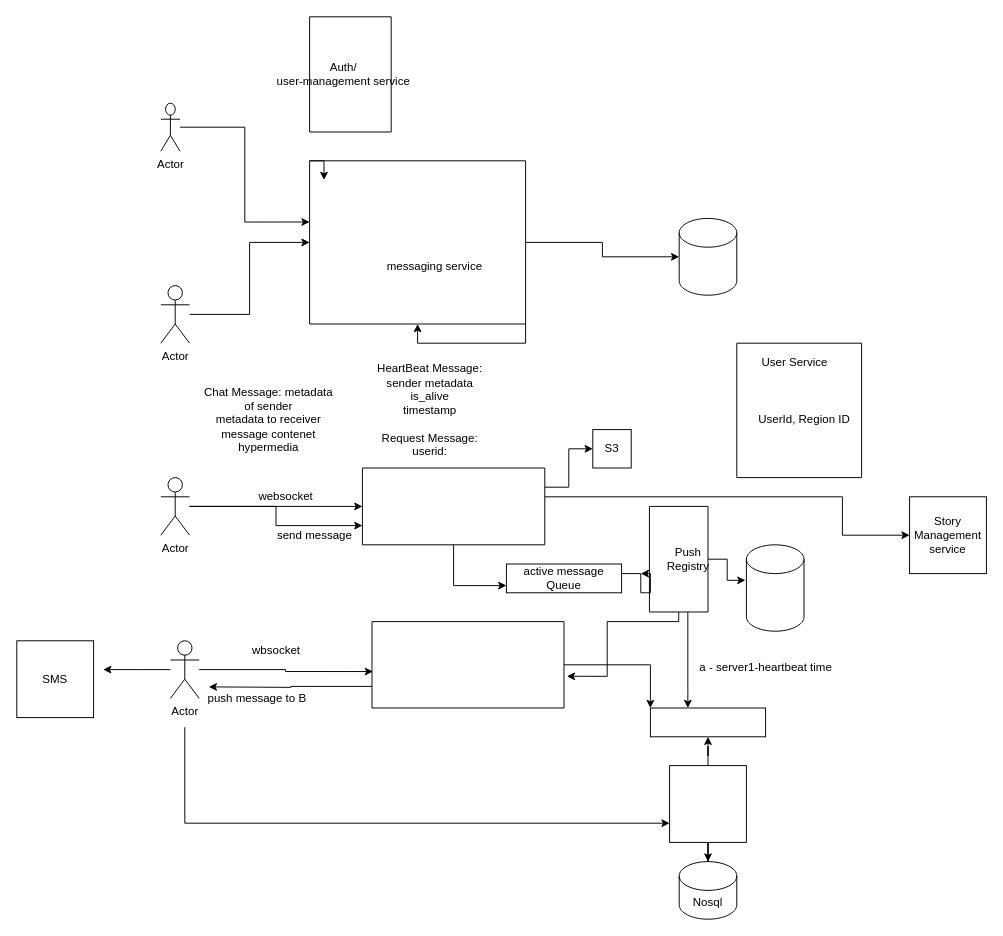
Image size: 1003x936. Some labels were removed from this diagram. Each missing label, with the centre of its shape:
DB: (707,256)
offline message queue: (707,722)
offline messages Manager: (707,803)
Postgress/ Sqlserver 2016: (774,587)
server 2: (467,664)
server1: (453,506)
